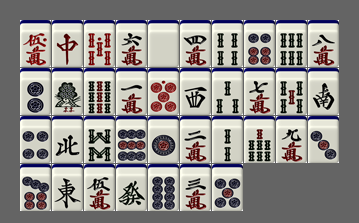0m: (20, 20, 51, 67)
0p: (148, 68, 179, 115)
0s: (84, 20, 115, 67)
1m: (116, 68, 147, 115)
1p: (148, 116, 179, 163)
1s: (52, 68, 83, 115)
1z: (52, 164, 83, 211)
2m: (180, 116, 211, 163)
2p: (20, 68, 51, 115)
2s: (212, 116, 243, 163)
2z: (308, 68, 339, 115)
3m: (180, 164, 211, 211)
3p: (308, 116, 339, 163)
3s: (212, 68, 243, 115)
3z: (180, 68, 211, 115)
4m: (180, 20, 211, 67)
4p: (20, 116, 51, 163)
4s: (212, 20, 243, 67)
4z: (52, 116, 83, 163)
5m: (84, 164, 115, 211)
5p: (212, 164, 243, 211)
5s: (276, 68, 307, 115)
5z: (148, 20, 179, 67)
6m: (116, 20, 147, 67)
6p: (244, 20, 275, 67)
6s: (276, 20, 307, 67)
6z: (116, 164, 147, 211)
7m: (244, 68, 275, 115)
7p: (20, 164, 51, 211)
7s: (244, 116, 275, 163)
7z: (52, 20, 83, 67)
8m: (308, 20, 339, 67)
8p: (148, 164, 179, 211)
8s: (84, 116, 115, 163)
9m: (276, 116, 307, 163)
9p: (116, 116, 147, 163)
9s: (84, 68, 115, 115)
